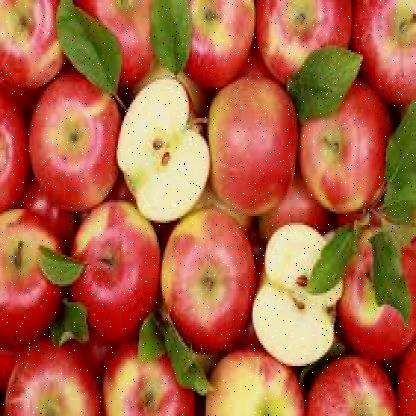apple: (296, 69, 390, 212), (32, 56, 122, 204), (71, 196, 155, 328), (162, 209, 252, 332), (206, 84, 298, 196), (334, 225, 410, 343), (2, 209, 62, 334), (106, 336, 202, 414), (3, 342, 101, 414), (163, 2, 251, 82), (206, 344, 302, 414), (257, 5, 351, 75), (353, 0, 411, 95), (309, 354, 394, 414), (0, 0, 64, 75)
damaged_apple: (117, 75, 214, 223), (252, 214, 340, 364)
